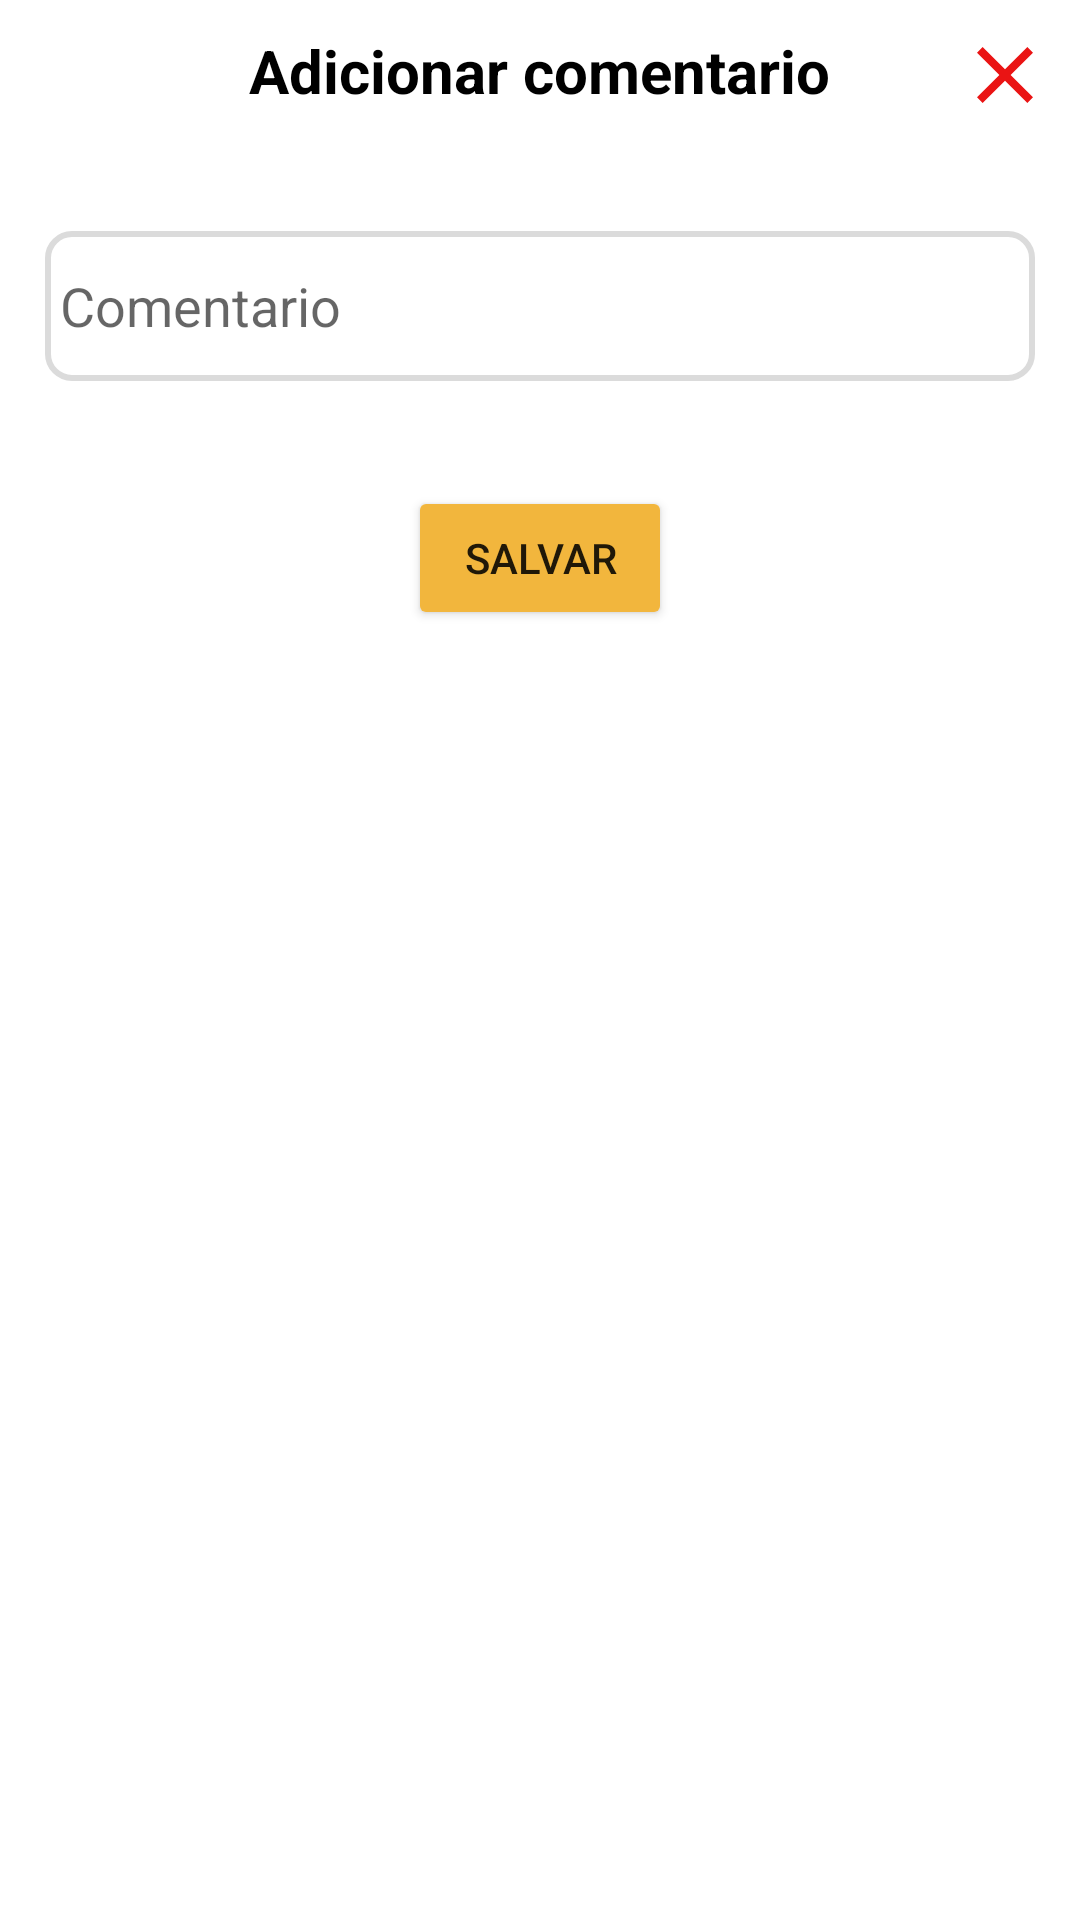

Where icons sit on this 1080x1920 app screen, as (x1, y1, x2, y2):
close: (977, 47, 1033, 103)
